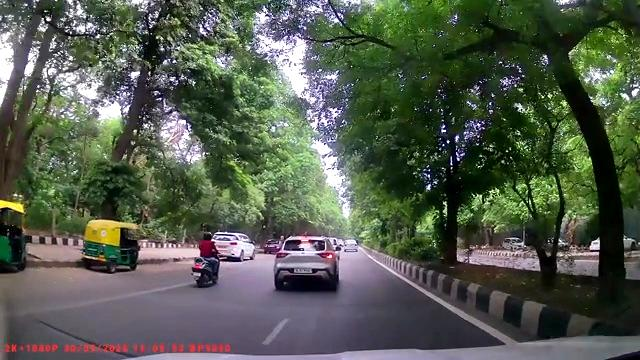motorcycle_with_helmet: (192, 232, 219, 288)
